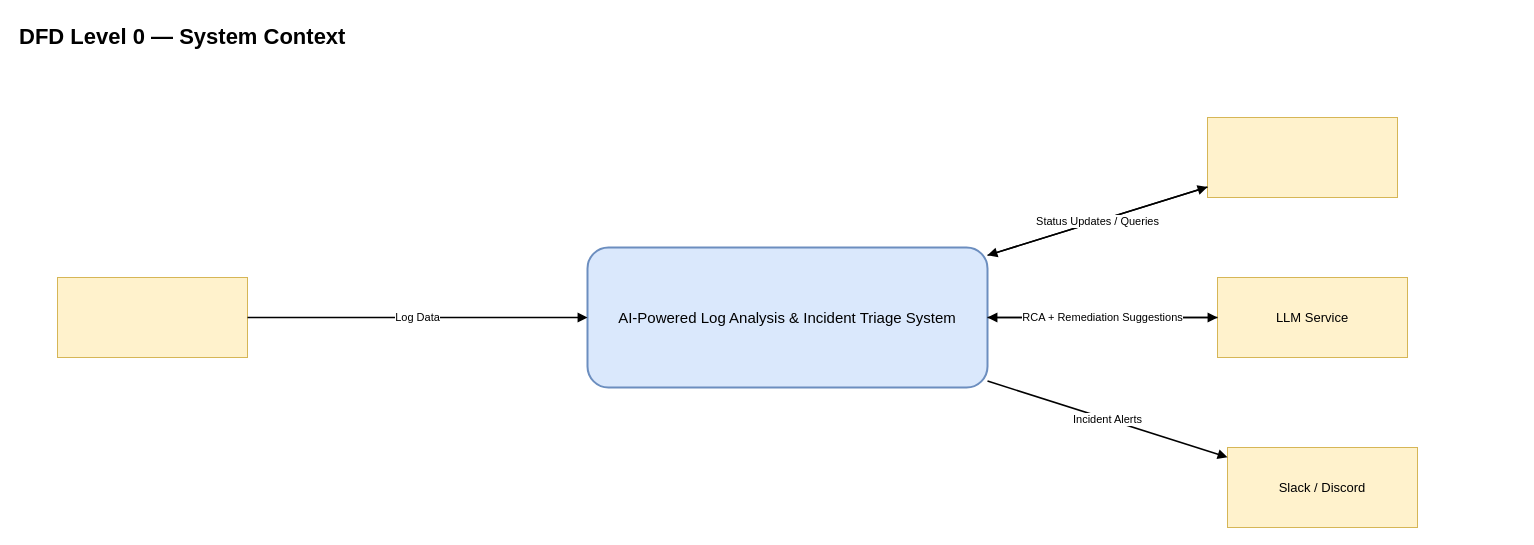
This 1534x545 diagram has some shape labels left out. Each missing label, with the centre of its shape:
"Microservices / Log Sources" goes at pixel 152 317.
"Software Engineer / SRE" goes at pixel 1302 157.
